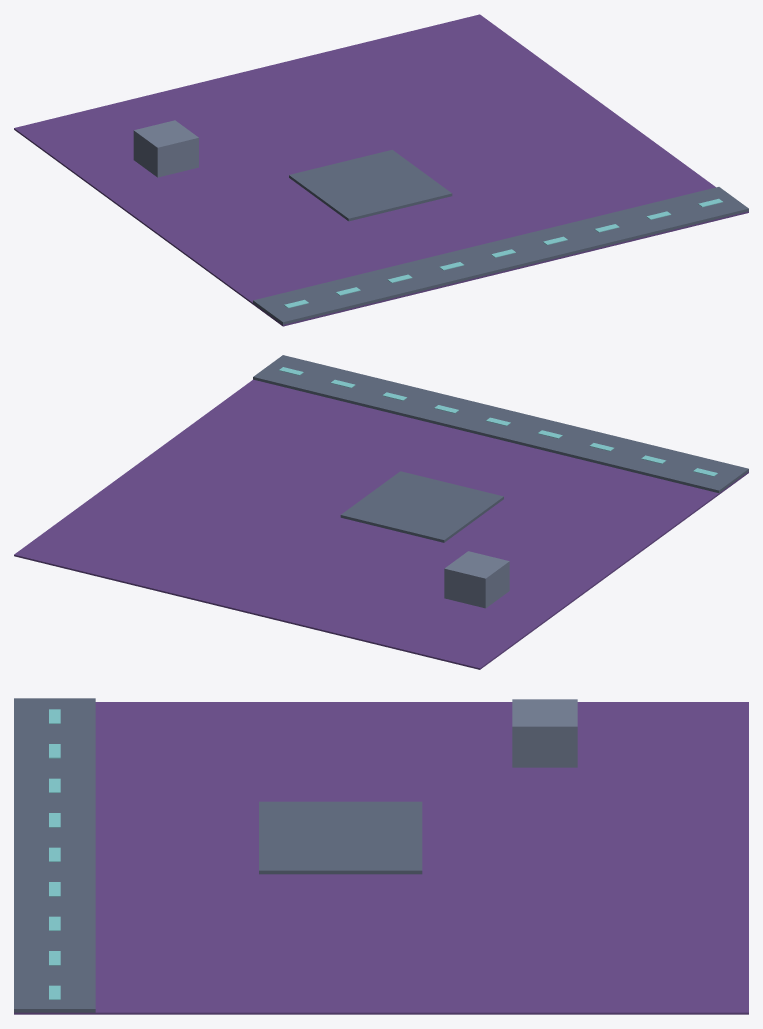
File: stage_02.glb
3 renders of one model, top to bottom at view 1: azimuth 30°, elevation 25°; view 2: azimuth 150°, elevation 25°; view 3: azimuth 270°, elevation 25°, orthographic. The views are drawn at different scales.
Visible parts, largest first — view 1: geometry_0; view 2: geometry_0; view 3: geometry_0.
Boxes of the visible parts, <box> form: geometry_0: <box>14,14,748,326</box>; geometry_0: <box>14,355,748,669</box>; geometry_0: <box>14,698,748,1014</box>.
Bounding box in the file's own units: 9 × 0.58 × 9.
